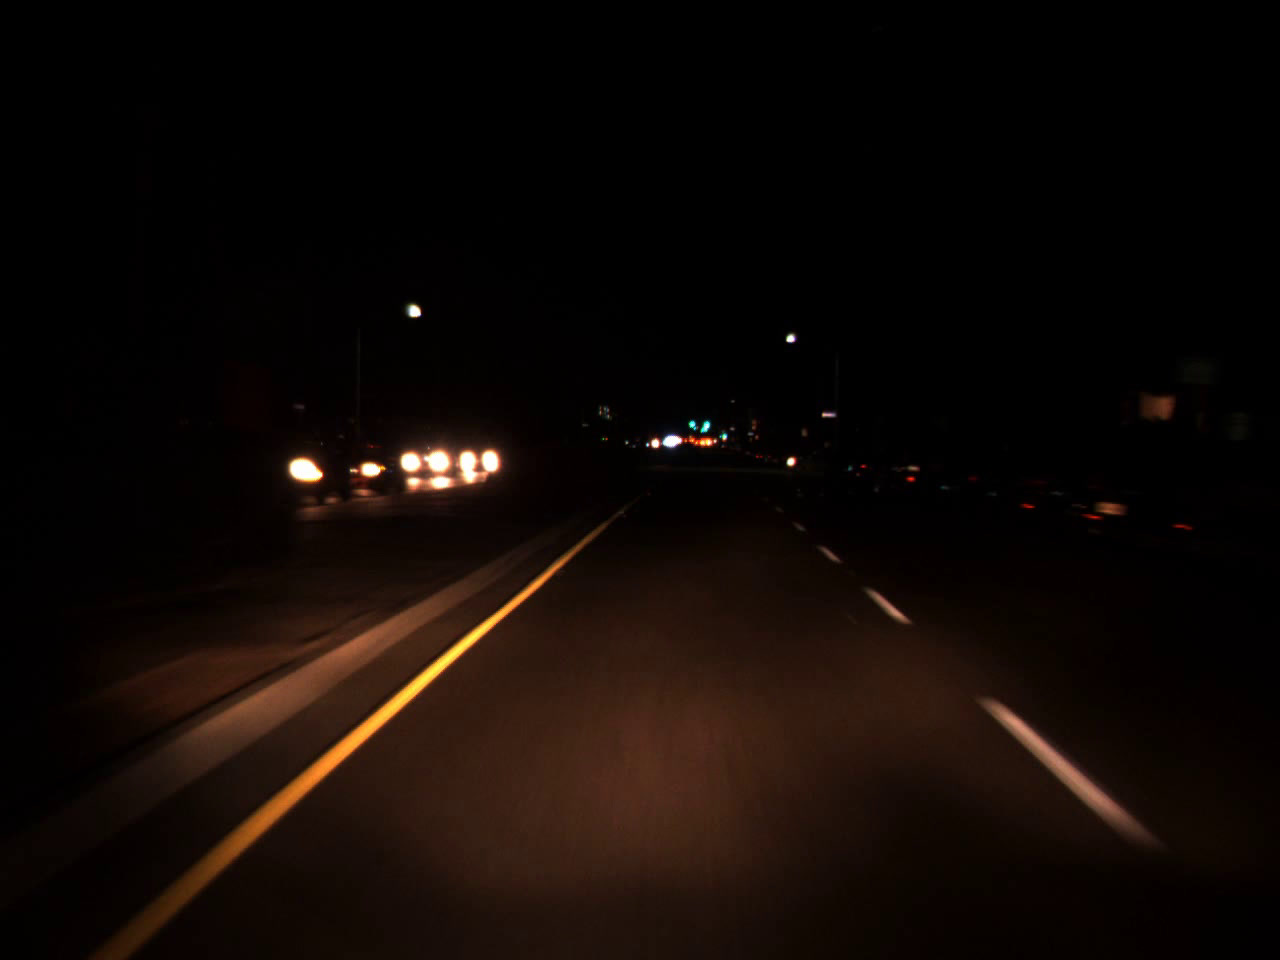go: (699, 407, 711, 434), (687, 413, 696, 431), (720, 427, 727, 439)
